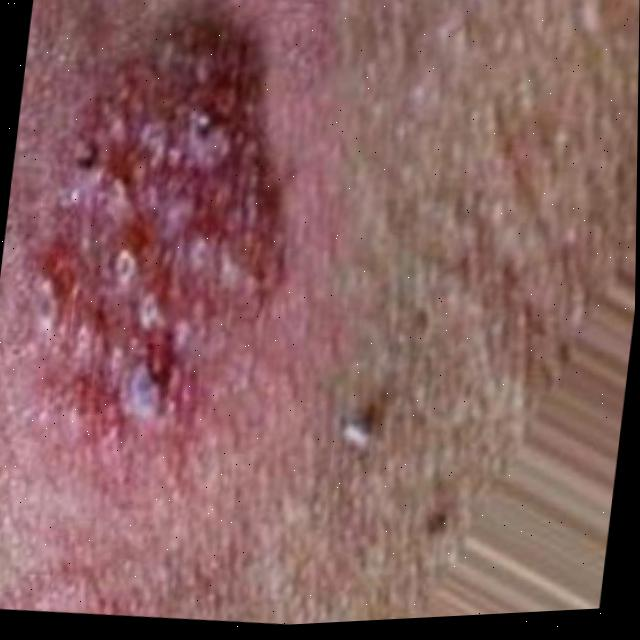Shingles: (5, 27, 293, 440)
